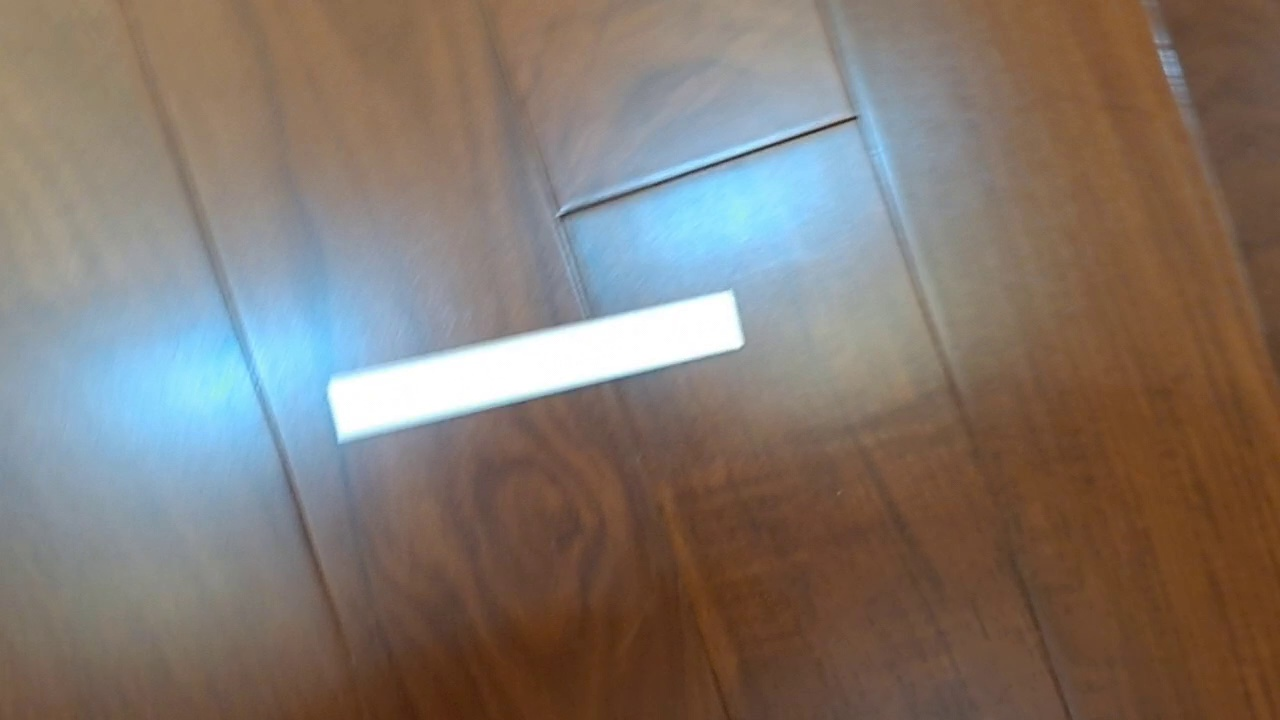ruler: (324, 286, 747, 446)
